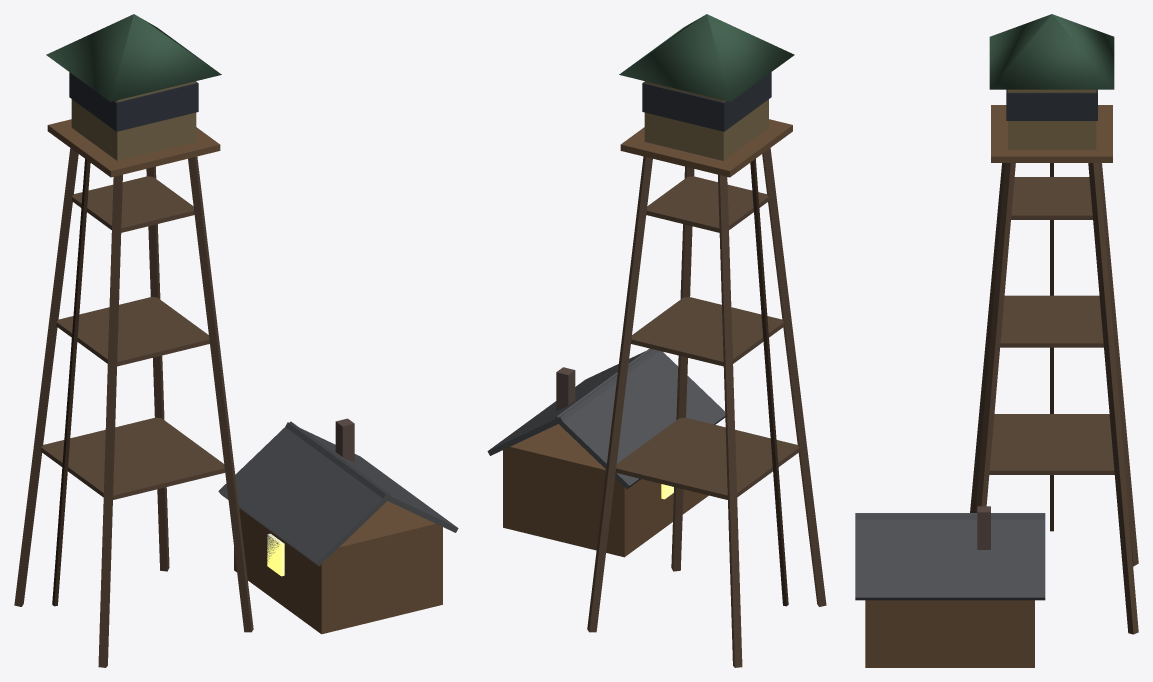
File: mark-watchtower.glb
3 renders of one model, left to right at view 1: azimuth 30°, elevation 25°; view 2: azimuth 150°, elevation 25°; view 3: azimuth 270°, elevation 25°, orthographic. The views are drawn at different scales.
Visible parts, largest first — view 1: 00_#5a4636_noshadow, 01_#6a5038, 06_#4c4e52, 04_#3c5a48, 02_#7a6a4a, 03_#2e333b_noshadow, 05_#3a2a1e_noshadow, 07_#5a4a44_r320; view 2: 00_#5a4636_noshadow, 01_#6a5038, 06_#4c4e52, 04_#3c5a48, 02_#7a6a4a, 03_#2e333b_noshadow, 05_#3a2a1e_noshadow, 07_#5a4a44_r320; view 3: 00_#5a4636_noshadow, 06_#4c4e52, 01_#6a5038, 04_#3c5a48, 02_#7a6a4a, 03_#2e333b_noshadow, 05_#3a2a1e_noshadow, 07_#5a4a44_r320.
Part boxes in pixels (left/top/right/bottom): 00_#5a4636_noshadow: left=14, top=148, right=253, bottom=667; 01_#6a5038: left=47, top=119, right=442, bottom=634; 06_#4c4e52: left=218, top=421, right=458, bottom=566; 04_#3c5a48: left=46, top=14, right=221, bottom=101; 02_#7a6a4a: left=71, top=81, right=196, bottom=160; 03_#2e333b_noshadow: left=69, top=72, right=198, bottom=131; 05_#3a2a1e_noshadow: left=52, top=159, right=90, bottom=606; 07_#5a4a44_r320: left=335, top=418, right=354, bottom=462; 00_#5a4636_noshadow: left=587, top=148, right=826, bottom=667; 01_#6a5038: left=503, top=119, right=792, bottom=557; 06_#4c4e52: left=487, top=348, right=725, bottom=488; 04_#3c5a48: left=619, top=14, right=794, bottom=101; 02_#7a6a4a: left=644, top=81, right=768, bottom=160; 03_#2e333b_noshadow: left=642, top=72, right=771, bottom=131; 05_#3a2a1e_noshadow: left=750, top=159, right=788, bottom=606; 07_#5a4a44_r320: left=556, top=367, right=575, bottom=411; 00_#5a4636_noshadow: left=970, top=163, right=1138, bottom=634; 06_#4c4e52: left=855, top=513, right=1045, bottom=600; 01_#6a5038: left=865, top=105, right=1112, bottom=667; 04_#3c5a48: left=989, top=14, right=1114, bottom=89; 02_#7a6a4a: left=1008, top=89, right=1096, bottom=149; 03_#2e333b_noshadow: left=1006, top=89, right=1097, bottom=120; 05_#3a2a1e_noshadow: left=1050, top=163, right=1053, bottom=531; 07_#5a4a44_r320: left=977, top=506, right=990, bottom=549.
Size of the model in its own units: 10 by 19.01 by 8.36.
